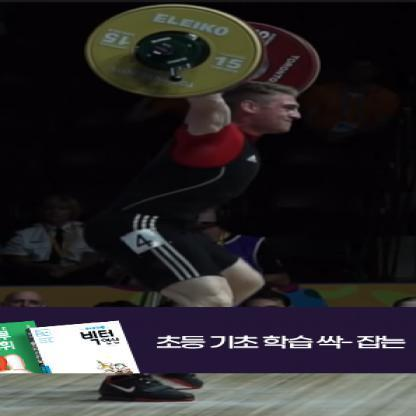barbell: (87, 4, 321, 100)
